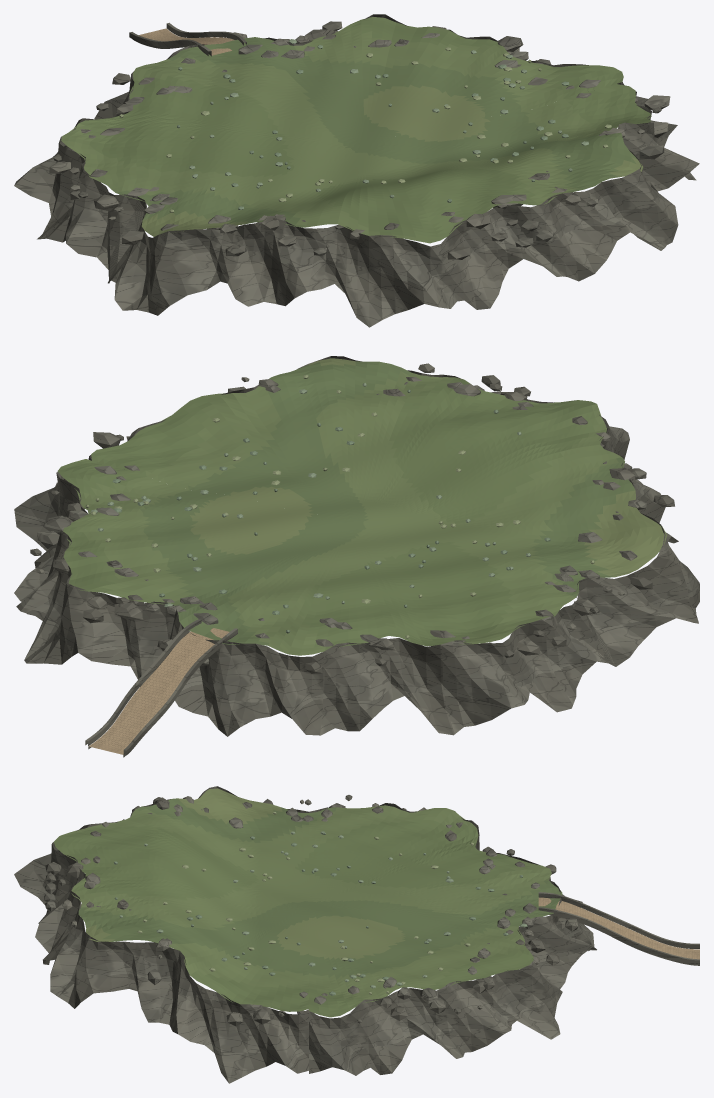
File: valoria_visual_slice_environment_v2.glb
3 views of the same model, one above another, from view 1: azimuth 30°, elevation 25°; view 2: azimuth 150°, elevation 25°; view 3: azimuth 270°, elevation 25° (orthographic). The views are drawn at different scales.
Parts seen in each view (by area): view 1: Valoria Highlands - Blender sculpted environment; view 2: Valoria Highlands - Blender sculpted environment; view 3: Valoria Highlands - Blender sculpted environment.
Part boxes in pixels (<box>): Valoria Highlands - Blender sculpted environment: <box>14,14,699,327</box>; Valoria Highlands - Blender sculpted environment: <box>14,356,699,757</box>; Valoria Highlands - Blender sculpted environment: <box>14,786,699,1083</box>.
Bounding box in the file's own units: 95.65 × 17.49 × 111.
Materials: 13 (6 with a texture image).
